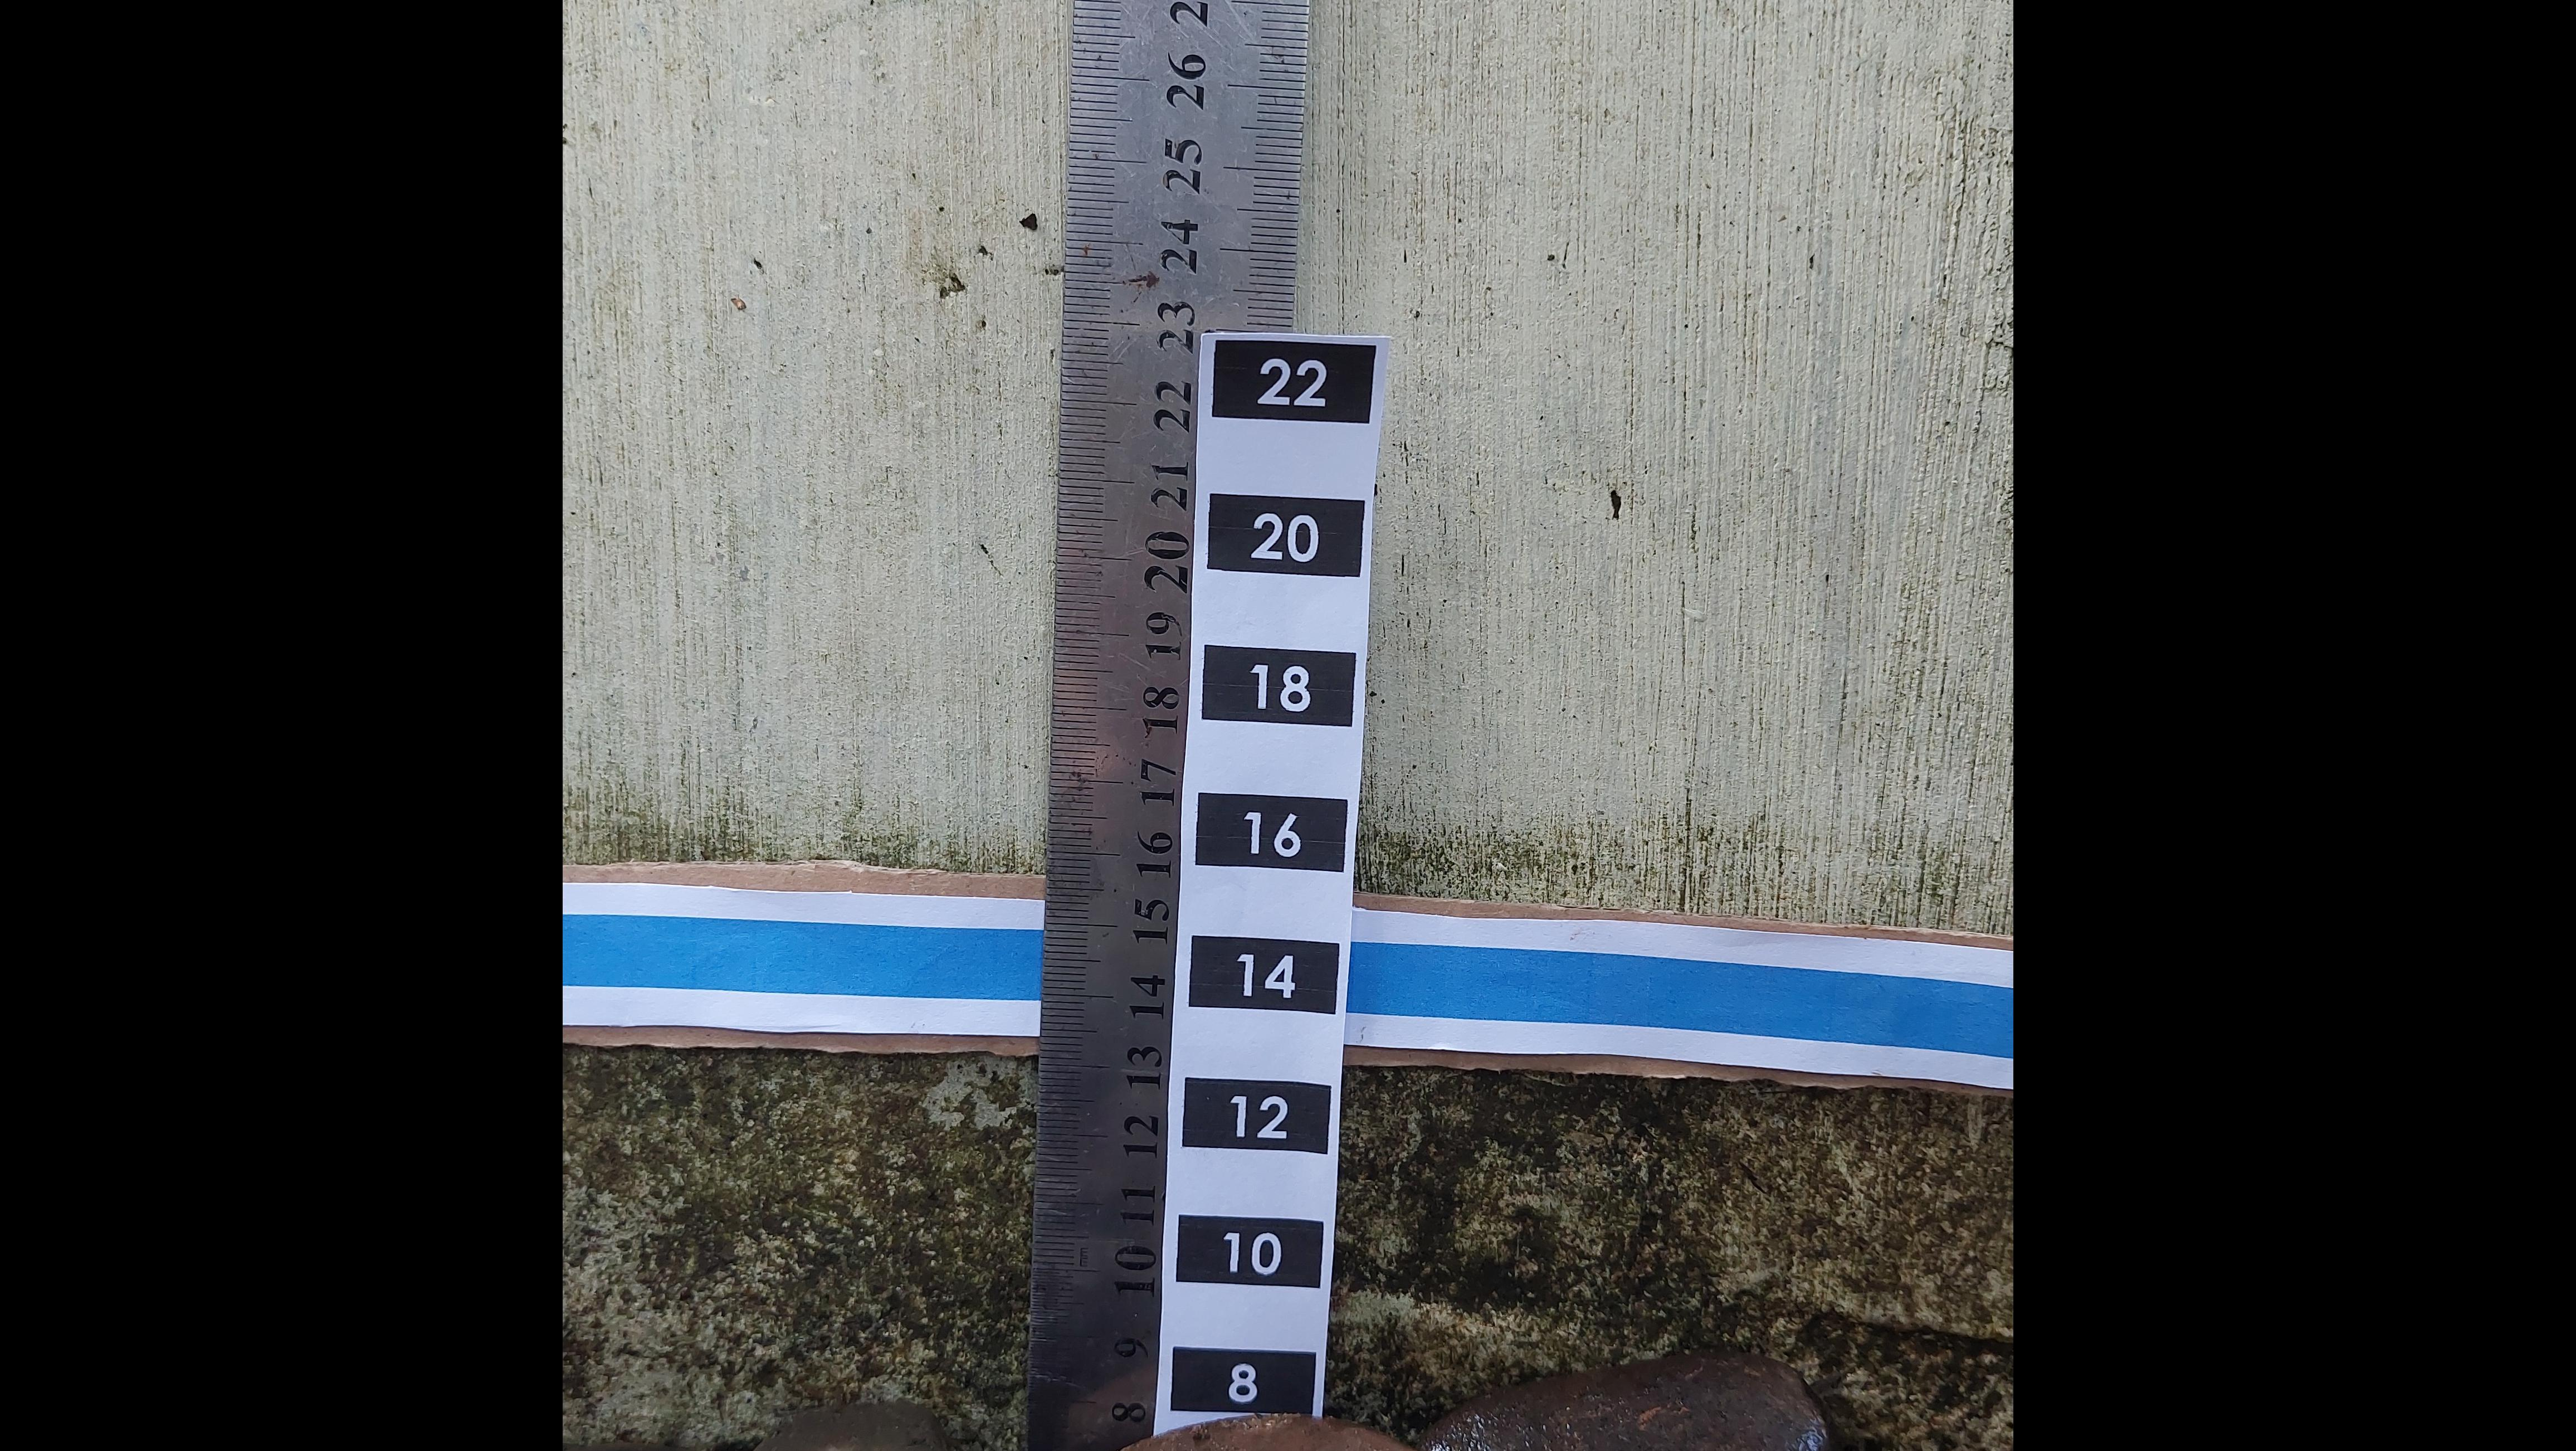kotak_2x1: (1215, 342, 1371, 428), (1207, 494, 1362, 575), (1203, 644, 1355, 725), (1198, 795, 1346, 874), (1184, 1078, 1330, 1155), (1191, 934, 1336, 1012), (1178, 1217, 1322, 1292), (1173, 1347, 1315, 1417)
